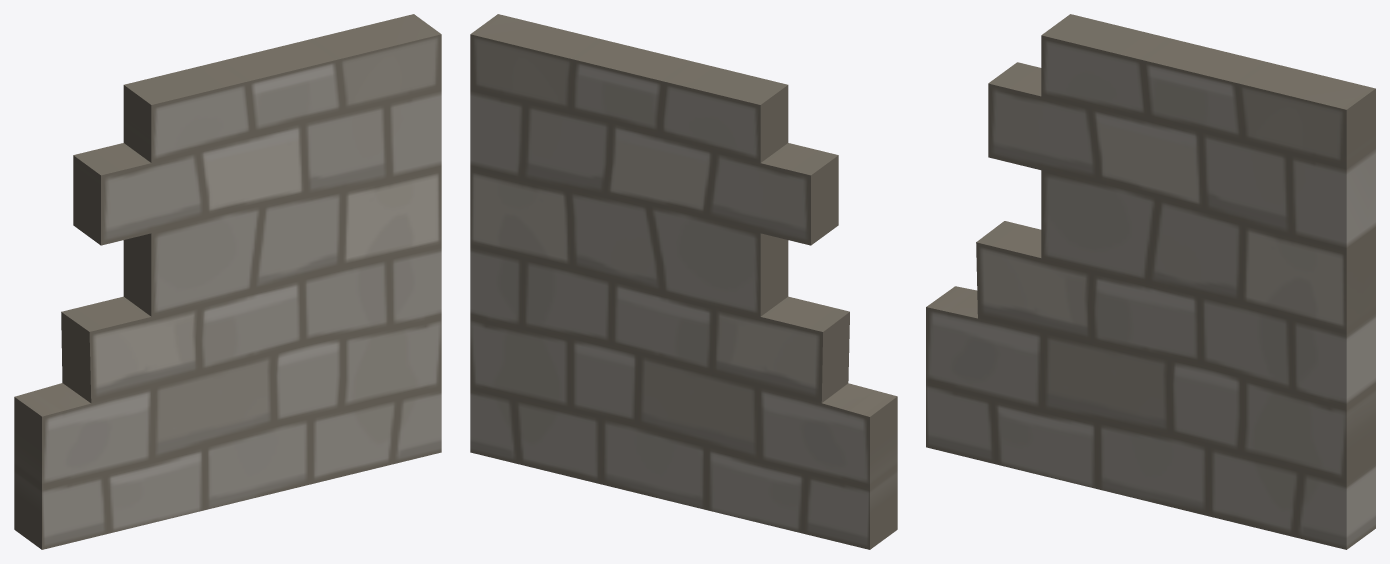
The model's file is Wall_A3.fbx.
3 renders of one model, left to right at view 1: azimuth 30°, elevation 25°; view 2: azimuth 150°, elevation 25°; view 3: azimuth 330°, elevation 25°, orthographic. The views are drawn at different scales.
Parts seen in each view (by area): view 1: Wall_A3; view 2: Wall_A3; view 3: Wall_A3.
Boxes of the visible parts, box(x1,y1,x2,y2) form: Wall_A3: box(14, 14, 441, 549); Wall_A3: box(470, 14, 897, 549); Wall_A3: box(926, 14, 1375, 549).
Bounding box in the file's own units: 300 × 300 × 36.05.
Materials: 1 (1 with a texture image).
